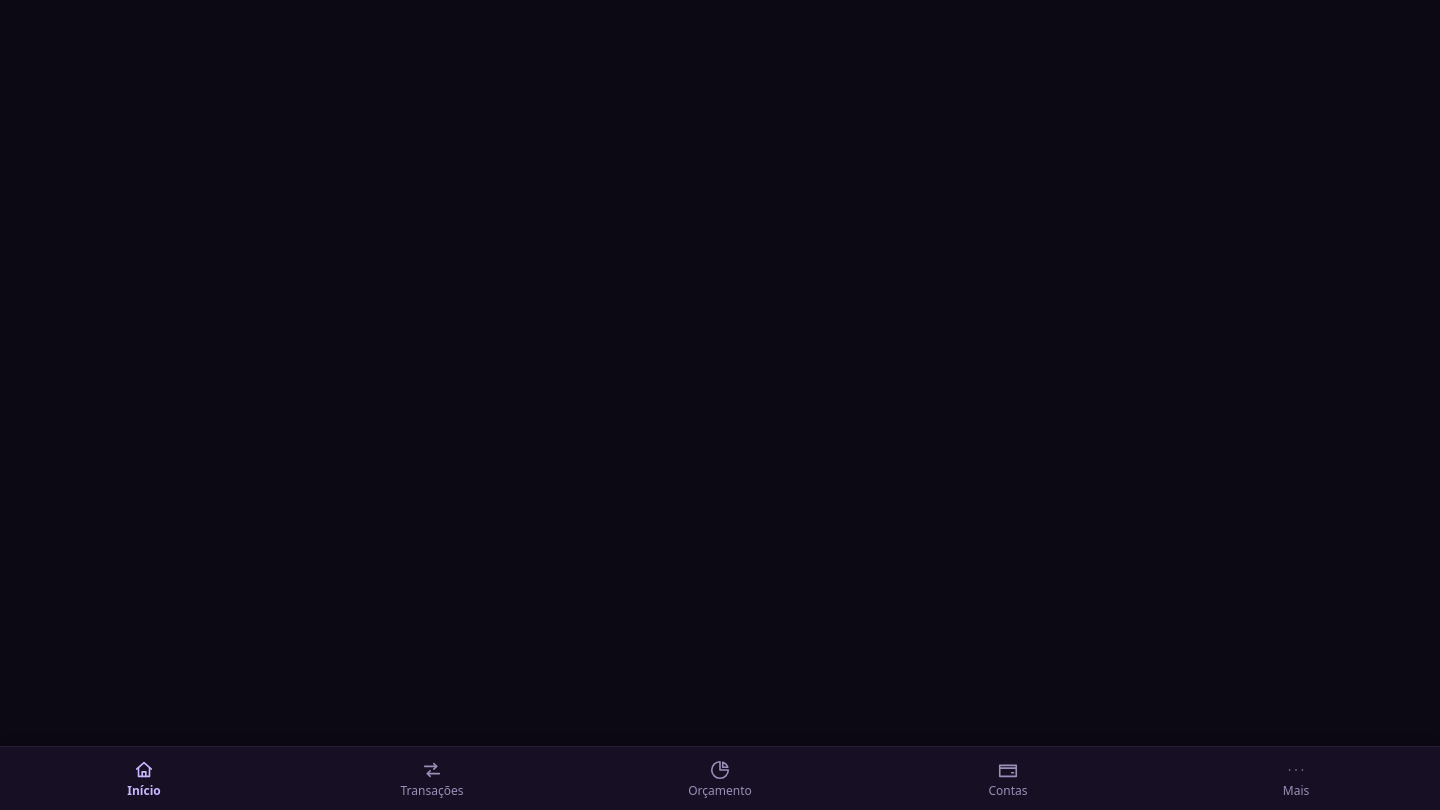
BarraDeAbas › abre a folha com as outras quatro; escolher uma navega e fecha
Click the button "Mais" at (1296, 778), box [1152,747,1439,809]
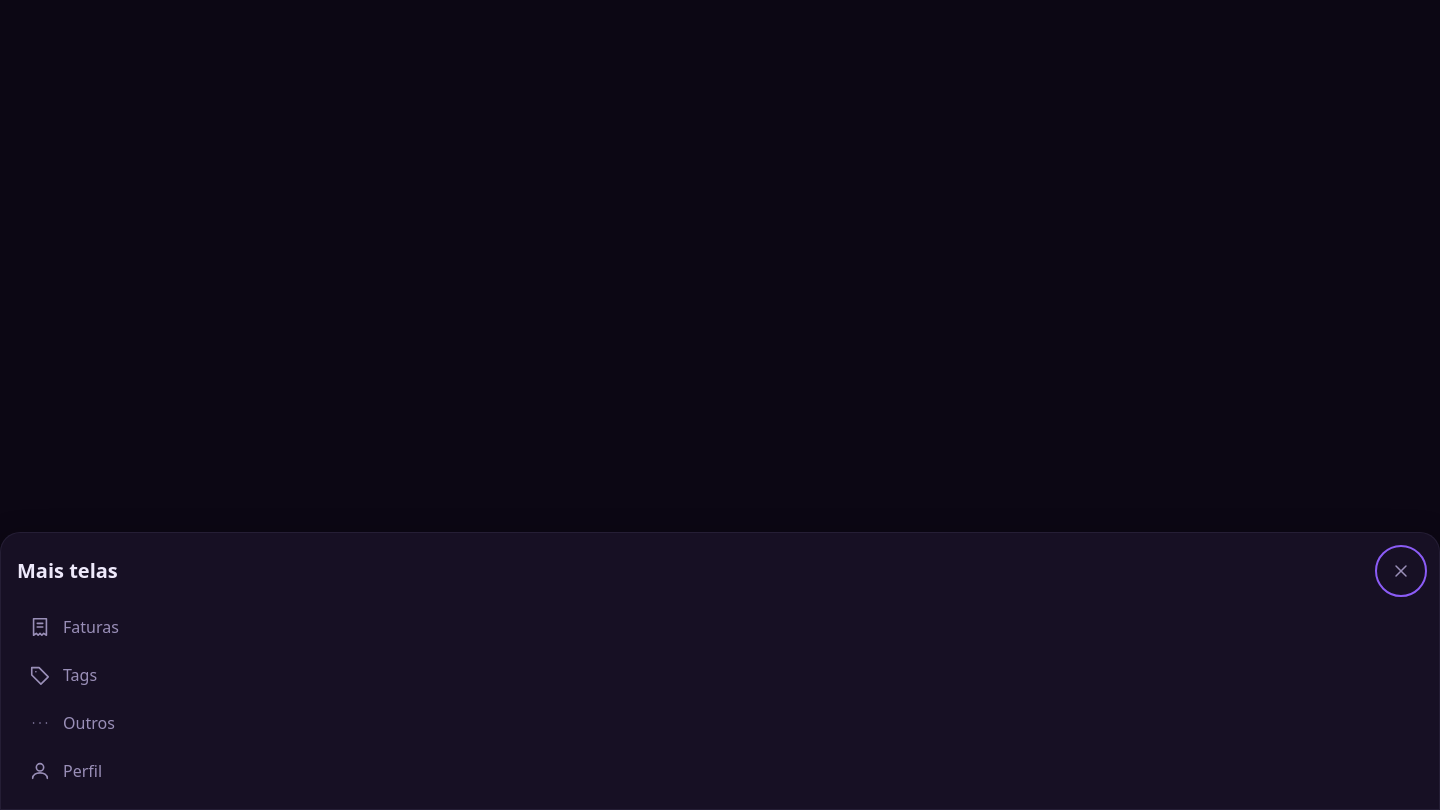
Now the list items read "Faturas", "Tags", "Outros", "Perfil", in this order
Click the button "Tags" at (80, 675), box [17,653,1423,697]
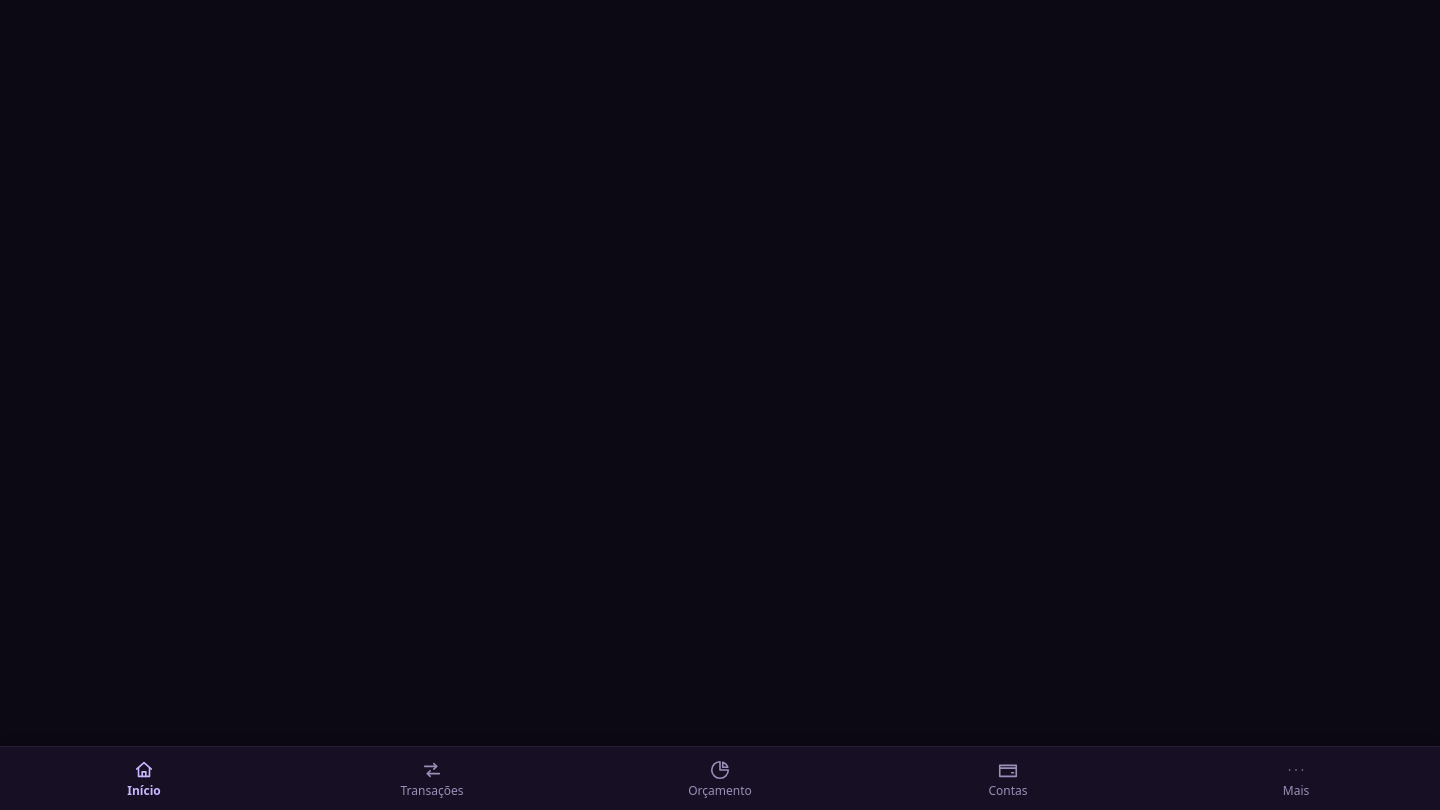
Now the dialog is gone
